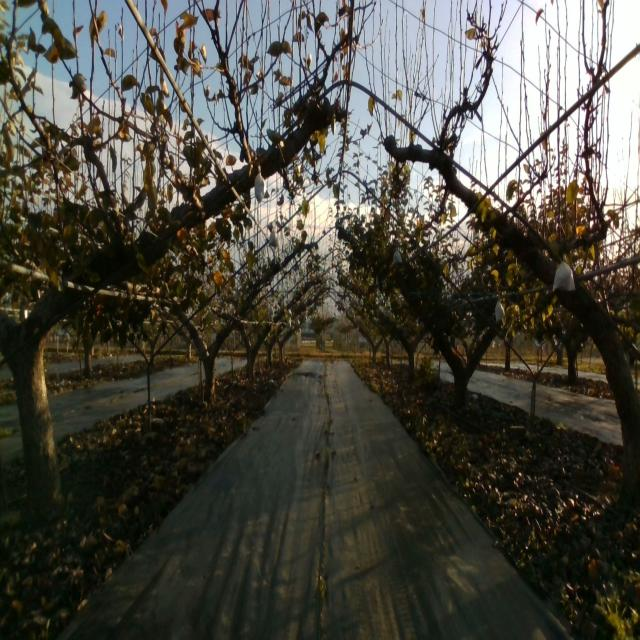pearbags: (552, 253, 576, 293), (254, 165, 266, 203), (494, 299, 506, 323), (268, 230, 280, 248)
